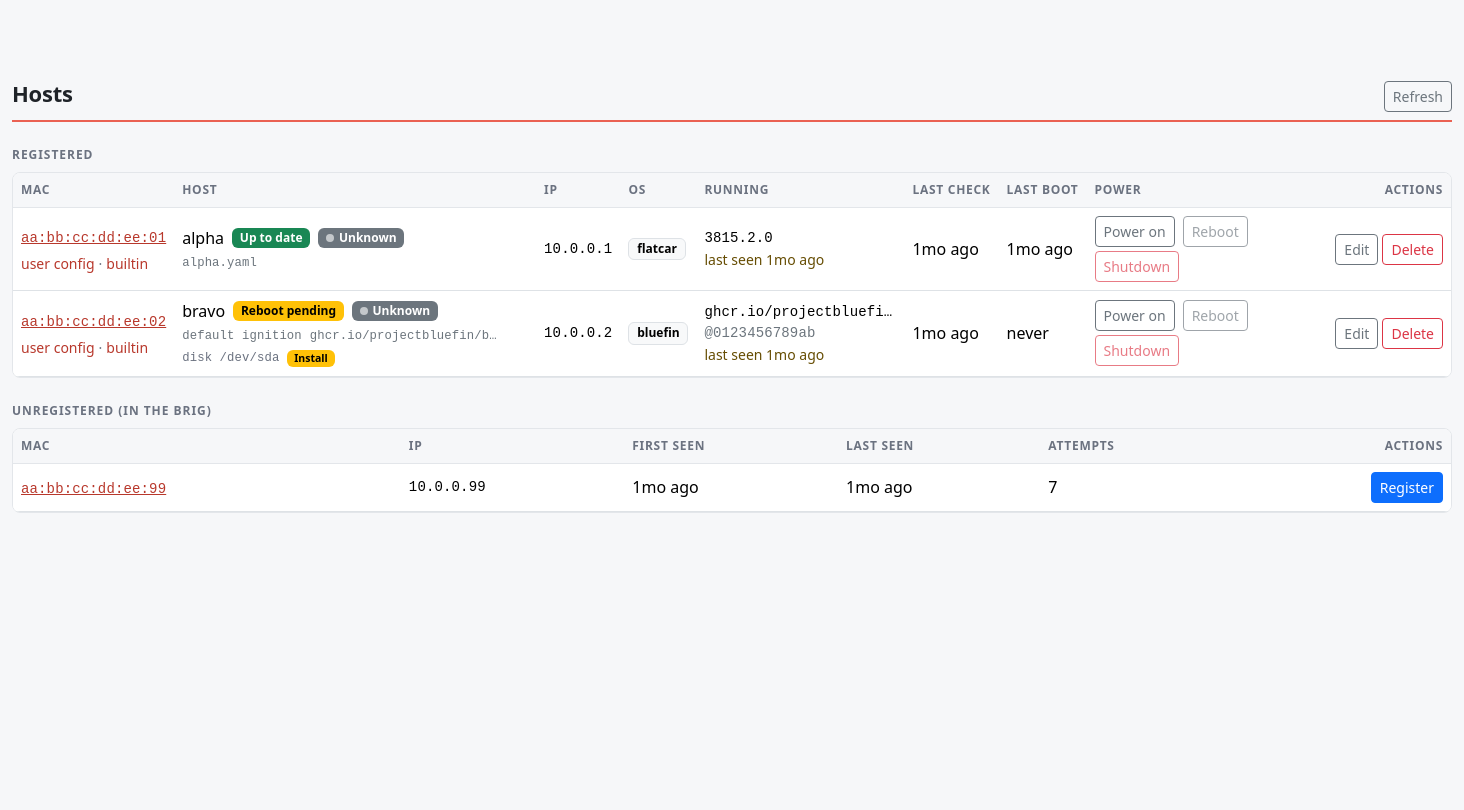
Scenario: HostsView › sends installDisk to /register when editing a bluefin host
Click the button "Edit" in the row of "aa:bb:cc:dd:ee:02" at (1357, 333), box [1335,318,1378,349]
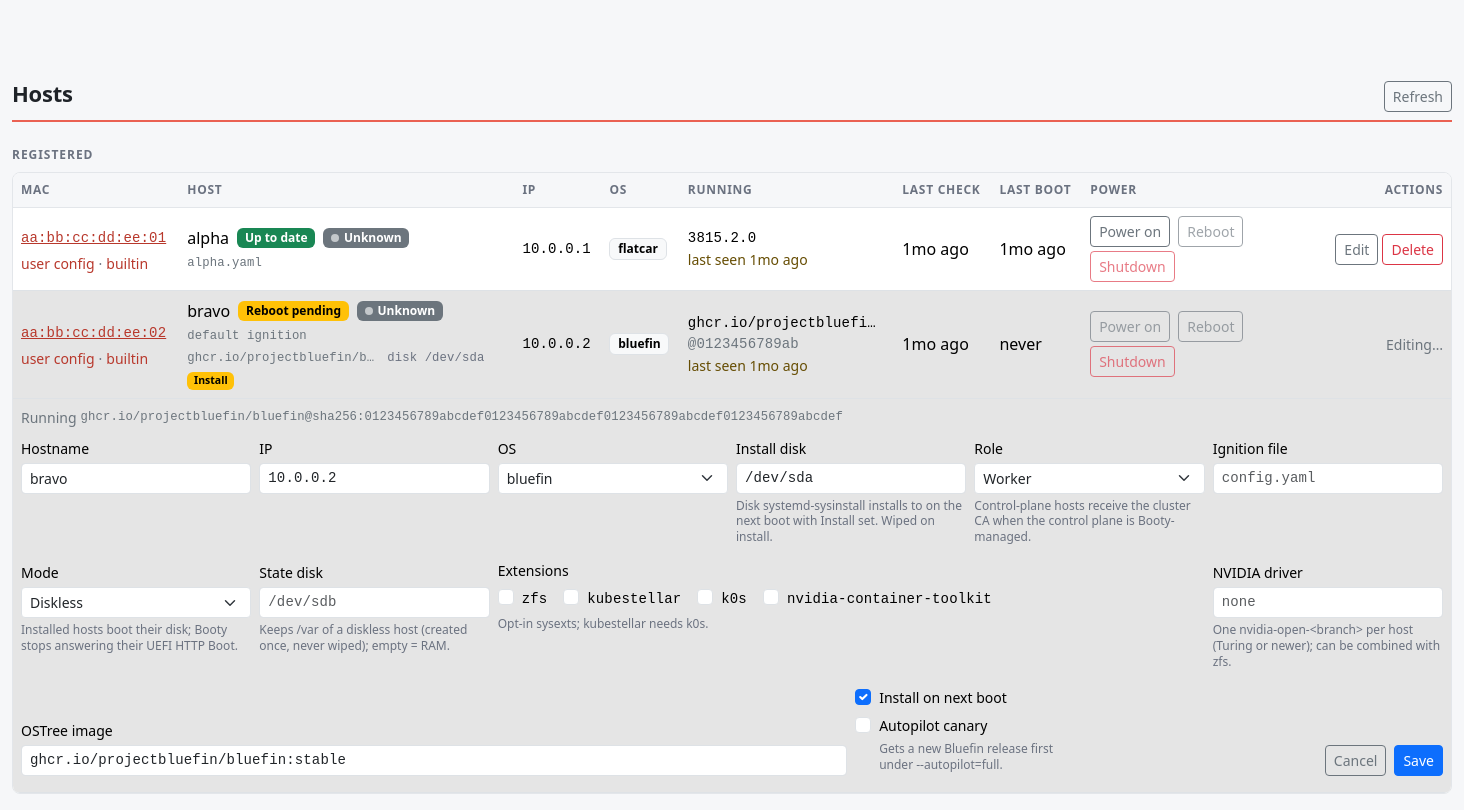
Now the field labelled "Install disk" holds "/dev/sda"
Type "/dev/nvme0n1" into the field labelled "Install disk" at (851, 478), box [736,463,966,494]
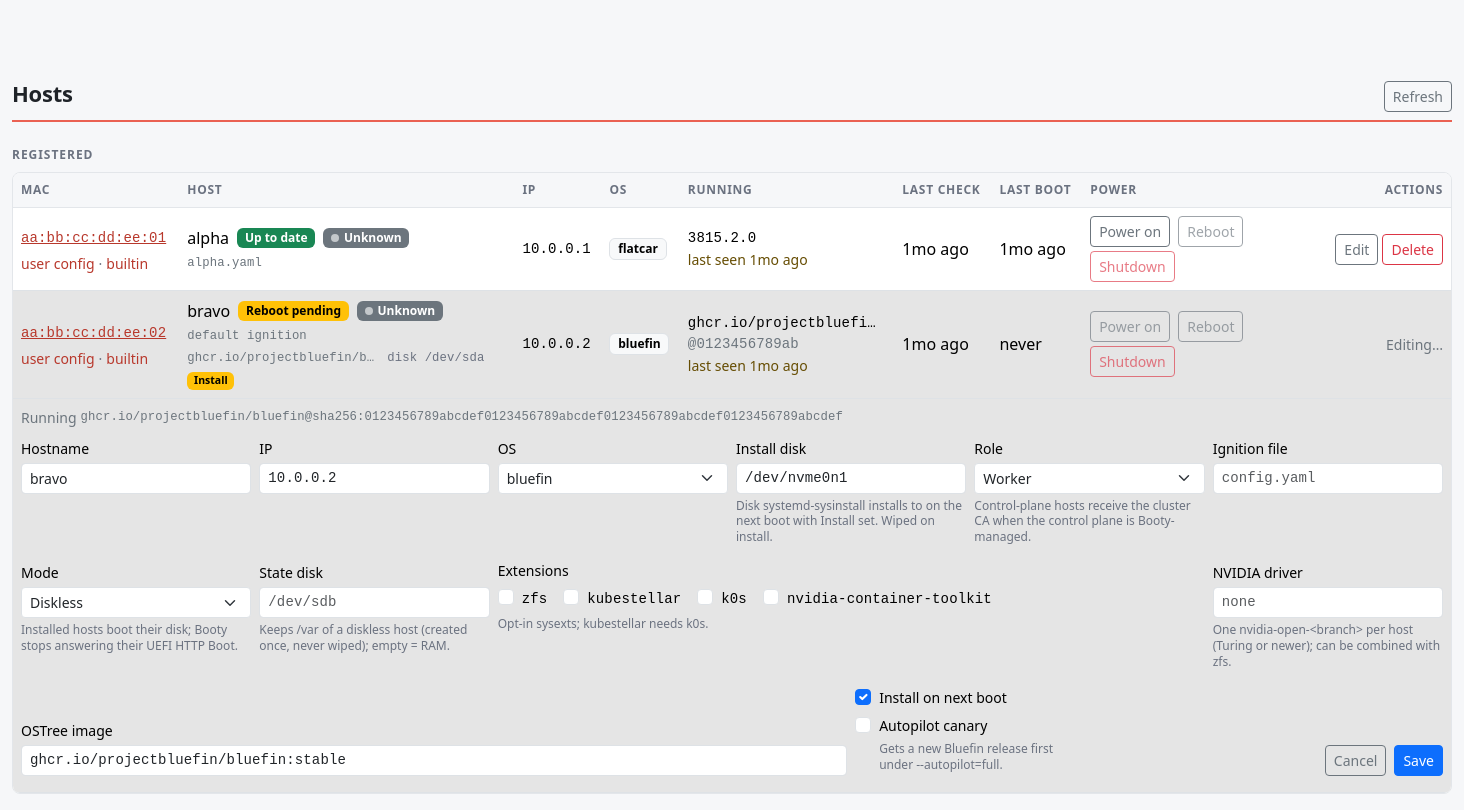
Submit the form, box [21,399,1443,784]
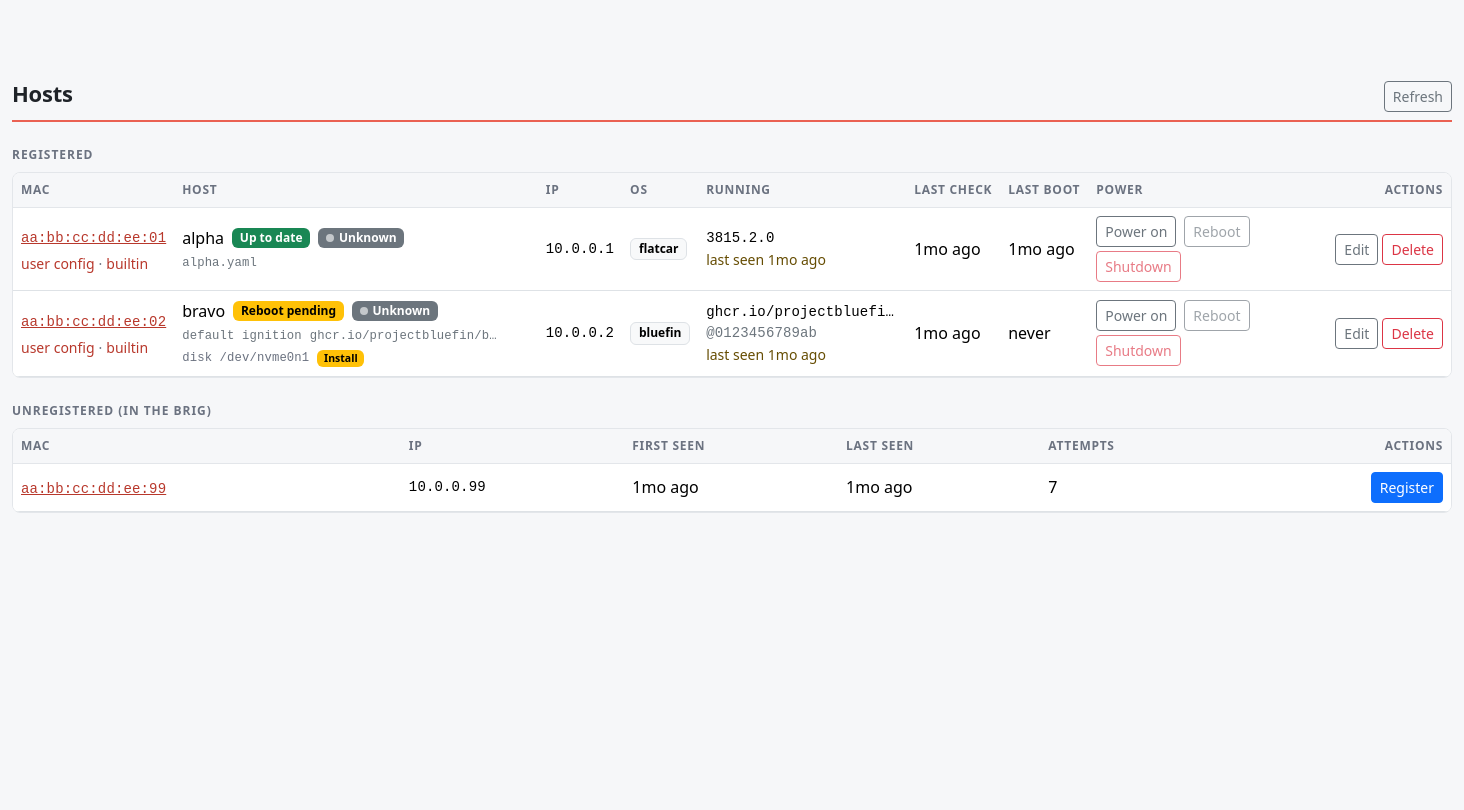
Now the text with test id "host-install-disk" reads "disk /dev/nvme0n1", box [182,351,309,365]
